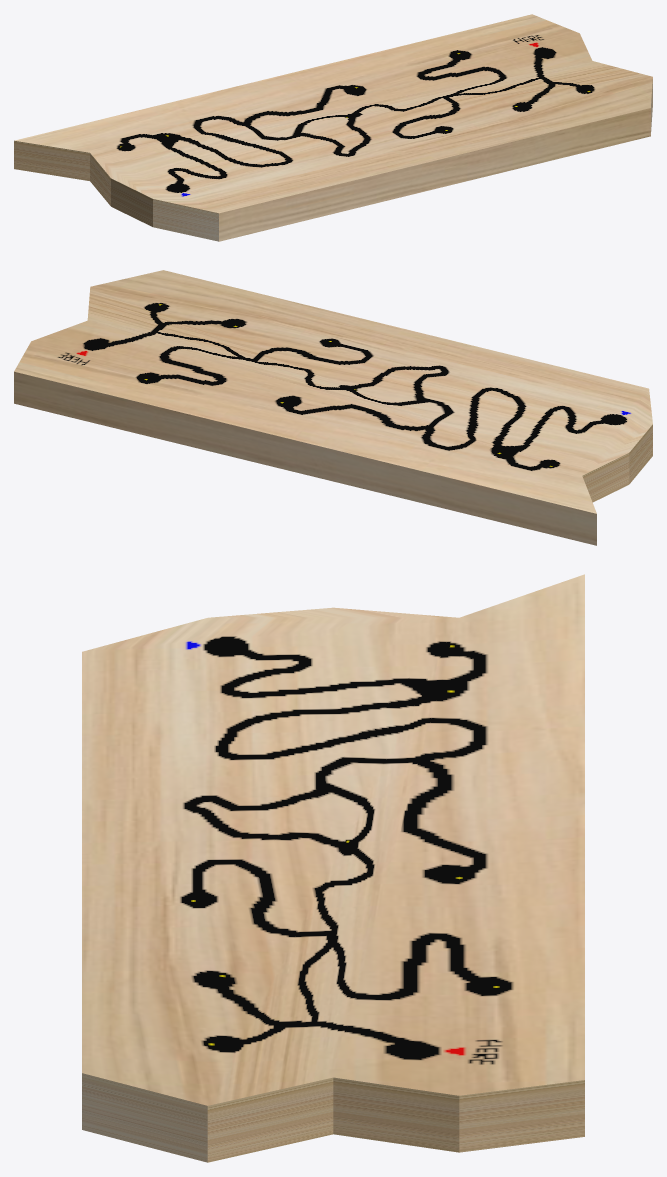
File: Mapa.fbx
3 views of the same model, one above another, from view 1: azimuth 30°, elevation 25°; view 2: azimuth 150°, elevation 25°; view 3: azimuth 270°, elevation 25° (orthographic). The views are drawn at different scales.
Visible parts, largest first — view 1: Cube; view 2: Cube; view 3: Cube.
Boxes of the visible parts, x1,y1,x2,y2 form: Cube: [14, 14, 652, 241]; Cube: [14, 270, 652, 545]; Cube: [82, 574, 584, 1162].
Bounding box in the file's own units: 222 × 11.08 × 88.91.
